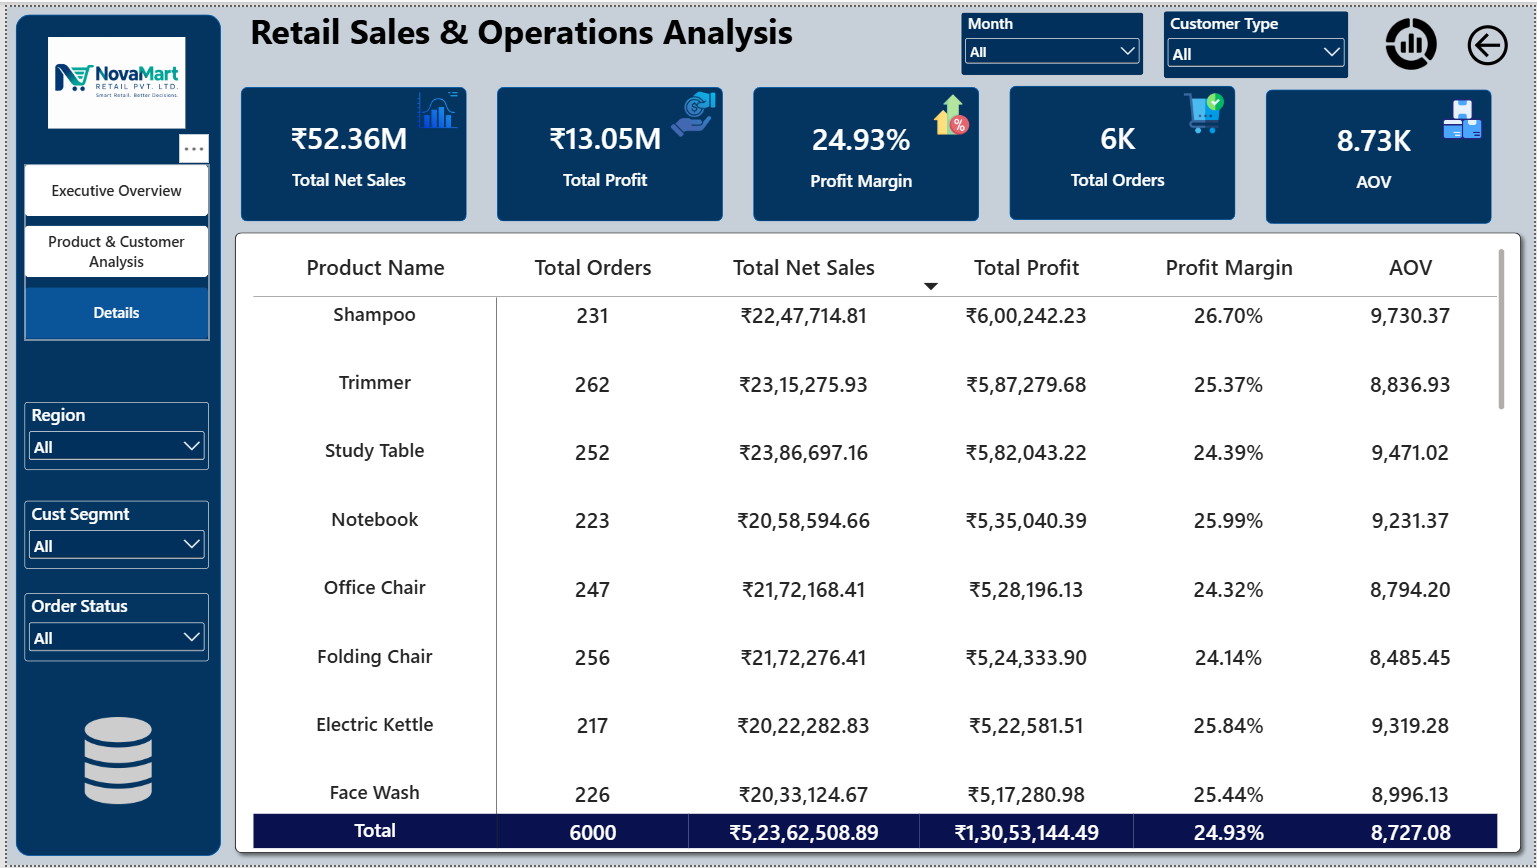

Layout of this report page (visuals, bound fields, positions):
{"tool":"powerbi","page":{"name":"Details","canvas":[1920,1080],"ordinal":2},"visuals":[{"type":"shape","box":[10.5,8.7,258.1,1058.7],"z":0},{"type":"shape","box":[617,99.9,284.3,169.2],"z":0,"group":"g2"},{"type":"shape","box":[294.8,100.8,284.3,169.2],"z":0,"group":"g3"},{"type":"shape","box":[277.3,273.7,1637.8,800.6],"z":0,"group":"g1"},{"type":"textbox","box":[294.8,0,779.7,95.9],"z":1000},{"type":"cardVisual","fields":{"Data":["retail_clients.Total Net Sales"]},"box":[294.8,100.8,272.1,169.2],"z":1000,"group":"g3"},{"type":"group","id":"g1","title":"Group 6","box":[277.3,273.7,1637.8,800.6],"z":2000,"group":"g10"},{"type":"slicer","fields":{"Values":["retail_clients.region"]},"box":[22.7,497.1,232,85.5],"z":2000},{"type":"cardVisual","fields":{"Data":["retail_clients.Total Profit"]},"box":[617,99.9,272.1,169.2],"z":3000,"group":"g2"},{"type":"group","id":"g2","title":"Group 2","box":[617,99.9,284.3,169.2],"z":3000,"group":"g11"},{"type":"group","id":"g3","title":"Group 1","box":[294.8,100.8,284.3,169.2],"z":3000,"group":"g12"},{"type":"group","id":"g4","title":"Group 3","box":[938,99.9,284.3,170.9],"z":4000,"group":"g9"},{"type":"shape","box":[938,99.9,284.3,169.2],"z":4000,"group":"g4"},{"type":"slicer","fields":{"Values":["retail_clients.cust_segmnt"]},"box":[22.7,620.9,232,85.5],"z":4000},{"type":"group","id":"g5","title":"Group 4","box":[1261,99.4,284.3,170.9],"z":5000,"group":"g7"},{"type":"shape","box":[1261,99.4,284.3,169.2],"z":5000,"group":"g5"},{"type":"slicer","fields":{"Values":["retail_clients.order_status"]},"box":[22.7,737.8,232,85.5],"z":5000},{"type":"image","box":[22.7,38.4,232,115.1],"z":6000},{"type":"group","id":"g6","title":"Group 5","box":[1583.7,103.6,284.3,169.2],"z":6000,"group":"g8"},{"type":"shape","box":[1583.7,103.6,284.3,169.2],"z":6000,"group":"g6"},{"type":"image","box":[54.1,893,172.7,109.9],"z":7000},{"type":"cardVisual","fields":{"Data":["retail_clients.Profit Margin"]},"box":[938,101.6,272.1,169.2],"z":7001,"group":"g4"},{"type":"cardVisual","fields":{"Data":["retail_clients.Total Orders"]},"box":[1261,101.1,272.1,169.2],"z":7002,"group":"g5"},{"type":"cardVisual","fields":{"Data":["retail_clients.AOV"]},"box":[1583.7,103.6,272.1,169.2],"z":7003,"group":"g6"},{"type":"actionButton","box":[1824.4,8.7,76.7,76.7],"z":8000},{"type":"slicer","fields":{"Values":["retail_clients.customer_type"]},"box":[1454.7,5.2,233.7,85.5],"z":9000},{"type":"pivotTable","fields":{"Rows":["retail_clients.product_name"],"Values":["retail_clients.Total Orders","retail_clients.Total Net Sales","retail_clients.Total Profit","retail_clients.Profit Margin","retail_clients.AOV"]},"box":[294.7,289.4,1606.4,784.9],"z":9000,"group":"g10"},{"type":"slicer","fields":{"Values":["Calender Date.Month Name"]},"box":[1200,7,230.2,80.2],"z":10000},{"type":"group","id":"g7","title":"Group 7","box":[1261,99.4,284.3,170.9],"z":11000},{"type":"group","id":"g8","title":"Group 8","box":[1583.7,103.6,286,169.2],"z":12000},{"type":"group","id":"g9","title":"Group 9","box":[938,99.9,284.3,170.9],"z":13000},{"type":"pageNavigator","box":[22.7,198.8,232,221.5],"z":14000},{"type":"image","box":[511.1,104.3,61,52.3],"z":15000,"group":"g12"},{"type":"image","box":[1726.7,14,80.2,64.5],"z":16000},{"type":"image","box":[832,105.1,62.8,59.3],"z":16000,"group":"g11"},{"type":"image","box":[1160.4,108.6,55.8,50.6],"z":17000,"group":"g9"},{"type":"group","id":"g10","title":"Group 12","box":[277.3,273.7,1637.8,800.6],"z":17000},{"type":"group","id":"g11","title":"Group 10","box":[617,99.9,284.3,169.2],"z":18000},{"type":"image","box":[1478.6,108.1,55.8,50.6],"z":18000,"group":"g7"},{"type":"group","id":"g12","title":"Group 11","box":[294.8,100.8,284.3,169.2],"z":18001},{"type":"image","box":[1793,112.3,76.7,55.8],"z":19000,"group":"g8"}]}

Visuals, with their boxes in screenshot pixels (x1, y1, x2, y2), scaled from the page's 1920x1080 canvas onto the 1537x868 screenshot:
shape: box=[8, 7, 215, 858]
shape: box=[494, 80, 722, 216]
shape: box=[236, 81, 464, 217]
shape: box=[222, 220, 1533, 863]
textbox: box=[236, 0, 860, 77]
cardVisual - retail_clients.Total Net Sales: box=[236, 81, 454, 217]
"Group 6" group: box=[222, 220, 1533, 863]
slicer - retail_clients.region: box=[18, 400, 204, 468]
cardVisual - retail_clients.Total Profit: box=[494, 80, 712, 216]
"Group 2" group: box=[494, 80, 722, 216]
"Group 1" group: box=[236, 81, 464, 217]
"Group 3" group: box=[751, 80, 978, 218]
shape: box=[751, 80, 978, 216]
slicer - retail_clients.cust_segmnt: box=[18, 499, 204, 568]
"Group 4" group: box=[1009, 80, 1237, 217]
shape: box=[1009, 80, 1237, 216]
slicer - retail_clients.order_status: box=[18, 593, 204, 662]
image: box=[18, 31, 204, 123]
"Group 5" group: box=[1268, 83, 1495, 219]
shape: box=[1268, 83, 1495, 219]
image: box=[43, 718, 182, 806]
cardVisual - retail_clients.Profit Margin: box=[751, 82, 969, 218]
cardVisual - retail_clients.Total Orders: box=[1009, 81, 1227, 217]
cardVisual - retail_clients.AOV: box=[1268, 83, 1486, 219]
actionButton: box=[1460, 7, 1522, 69]
slicer - retail_clients.customer_type: box=[1165, 4, 1352, 73]
pivotTable - retail_clients.product_name x retail_clients.Total Orders: box=[236, 233, 1522, 863]
slicer - Calender Date.Month Name: box=[961, 6, 1145, 70]
"Group 7" group: box=[1009, 80, 1237, 217]
"Group 8" group: box=[1268, 83, 1497, 219]
"Group 9" group: box=[751, 80, 978, 218]
pageNavigator: box=[18, 160, 204, 338]
image: box=[409, 84, 458, 126]
image: box=[1382, 11, 1446, 63]
image: box=[666, 84, 716, 132]
image: box=[929, 87, 974, 128]
"Group 12" group: box=[222, 220, 1533, 863]
"Group 10" group: box=[494, 80, 722, 216]
image: box=[1184, 87, 1228, 128]
"Group 11" group: box=[236, 81, 464, 217]
image: box=[1435, 90, 1497, 135]
